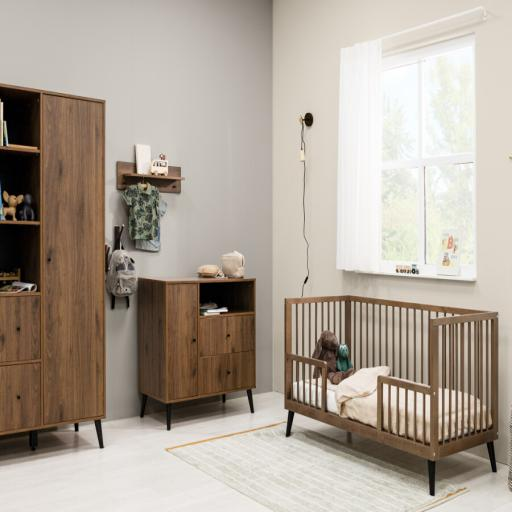crib: (284, 295, 498, 497)
